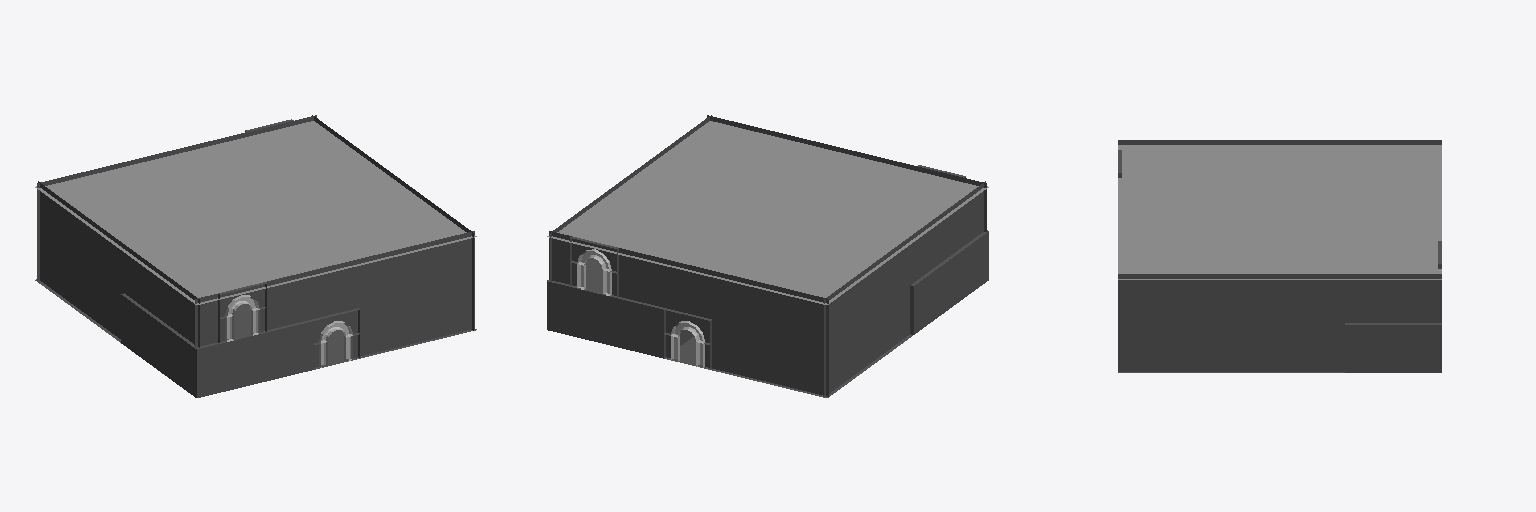
Rendered from crossover.obj.
3 renders of one model, left to right at view 1: azimuth 30°, elevation 25°; view 2: azimuth 150°, elevation 25°; view 3: azimuth 270°, elevation 25°, orthographic.
Visible parts, largest first — view 1: struct_ceiling_118, struct_wall_main_half_116, struct_block_normal_93, struct_wall_main_half_110, struct_wall_main_half_109, struct_wall_main_half_114, struct_wall_big_door_upper_91, struct_wall_big_door_upper_106, struct_wall_main_half_117, struct_wall_main_half_112, struct_wall_big_door_lower_103, struct_wall_big_door_lower_90 (+1 smaller); view 2: struct_ceiling_118, struct_wall_main_half_116, struct_wall_main_half_114, struct_block_normal_98, struct_wall_main_half_113, struct_block_normal_93, struct_wall_big_door_upper_108, struct_wall_main_half_110, struct_wall_big_door_upper_105, struct_wall_main_half_115, struct_wall_main_half_112, struct_wall_big_door_lower_104 (+1 smaller); view 3: struct_ceiling_118, struct_wall_main_half_112, struct_wall_main_half_111, struct_block_normal_98, struct_wall_main_half_116.
Part boxes in pixels (bbox=[...]): struct_ceiling_118: bbox=[35, 121, 476, 304]; struct_wall_main_half_116: bbox=[38, 181, 199, 347]; struct_block_normal_93: bbox=[121, 293, 313, 397]; struct_wall_main_half_110: bbox=[266, 231, 474, 329]; struct_wall_main_half_109: bbox=[359, 280, 474, 356]; struct_wall_main_half_114: bbox=[37, 132, 246, 231]; struct_wall_big_door_upper_91: bbox=[312, 308, 359, 344]; struct_wall_big_door_upper_106: bbox=[218, 282, 266, 318]; struct_wall_main_half_117: bbox=[195, 294, 217, 347]; struct_wall_main_half_112: bbox=[312, 115, 473, 281]; struct_wall_big_door_lower_103: bbox=[218, 307, 266, 343]; struct_wall_big_door_lower_90: bbox=[314, 333, 359, 368]; struct_ceiling_118: bbox=[547, 121, 988, 304]; struct_wall_main_half_116: bbox=[824, 181, 985, 396]; struct_wall_main_half_114: bbox=[619, 248, 828, 347]; struct_block_normal_98: bbox=[547, 258, 693, 358]; struct_wall_main_half_113: bbox=[712, 320, 828, 396]; struct_block_normal_93: bbox=[910, 230, 988, 334]; struct_wall_big_door_upper_108: bbox=[664, 308, 711, 344]; struct_wall_main_half_110: bbox=[707, 115, 916, 170]; struct_wall_big_door_upper_105: bbox=[570, 236, 618, 272]; struct_wall_main_half_115: bbox=[549, 231, 571, 284]; struct_wall_main_half_112: bbox=[550, 115, 711, 281]; struct_wall_big_door_lower_104: bbox=[570, 261, 618, 297]; struct_ceiling_118: bbox=[1118, 145, 1441, 279]; struct_wall_main_half_112: bbox=[1118, 274, 1441, 322]; struct_wall_main_half_111: bbox=[1118, 323, 1344, 371]; struct_block_normal_98: bbox=[1345, 323, 1441, 372]; struct_wall_main_half_116: bbox=[1118, 140, 1441, 144].
Size of the model in its own units: 12 by 4 by 12.